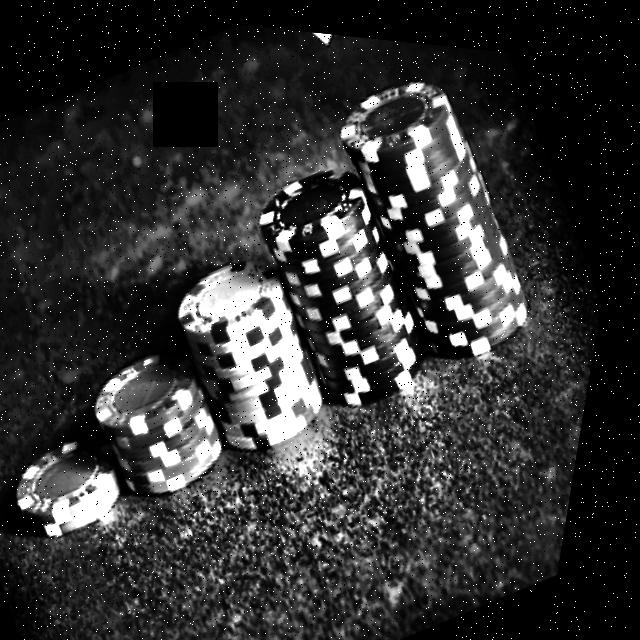Chip: (298, 43, 591, 387), (222, 131, 478, 424), (145, 223, 371, 465), (73, 314, 275, 517), (0, 395, 173, 563)
